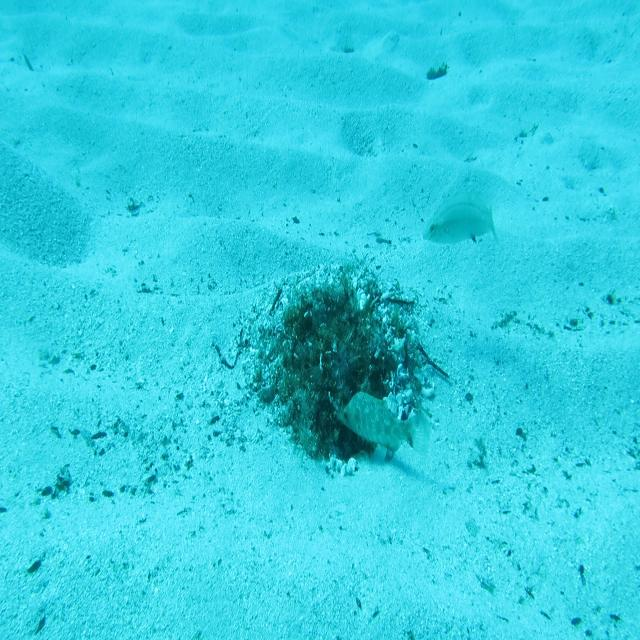AM: (336, 387, 432, 461)
core_nest: (307, 310, 354, 360)
nest: (231, 246, 448, 482)
vegetation: (426, 60, 450, 80)
